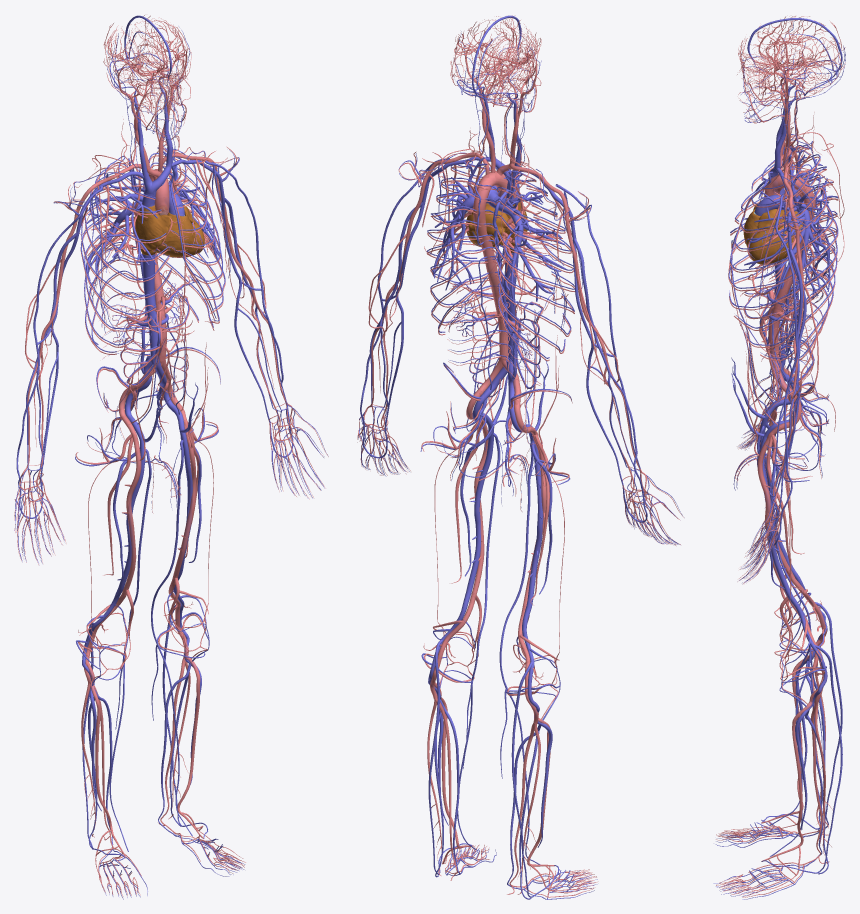
Rendered from circulatory_system.glb.
3 views of the same model, side by side, from view 1: azimuth 30°, elevation 25°; view 2: azimuth 150°, elevation 25°; view 3: azimuth 270°, elevation 25° (orthographic). The views are drawn at different scales.
Visible parts, largest first — view 1: Object_2, Object_3; view 2: Object_2, Object_3; view 3: Object_2, Object_3.
Part boxes in pixels (bbox=[...]): Object_2: bbox=[14, 15, 328, 899]; Object_3: bbox=[133, 203, 204, 257]; Object_2: bbox=[357, 15, 684, 899]; Object_3: bbox=[466, 202, 527, 252]; Object_2: bbox=[713, 16, 845, 899]; Object_3: bbox=[743, 194, 802, 264].
Size of the model in its own units: 0.6636 by 1.7 by 0.2396.
Materials: 2 (2 with a texture image).
